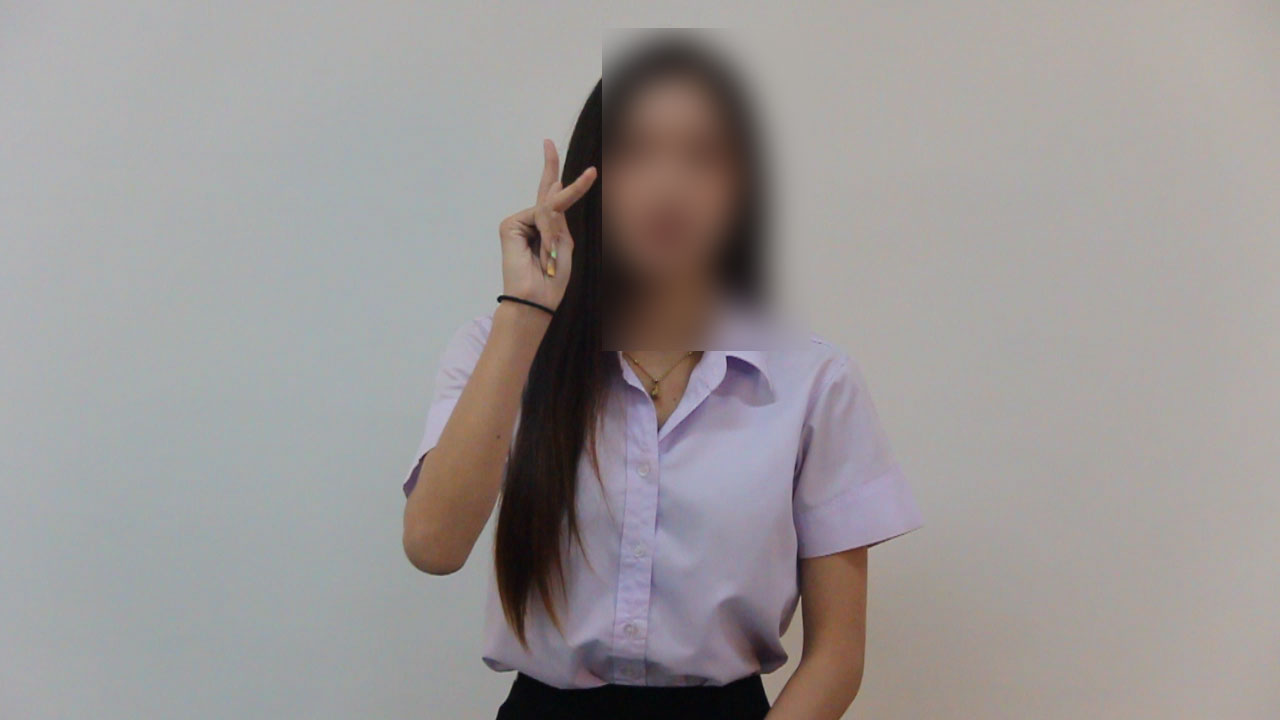ko: (486, 134, 599, 321)
